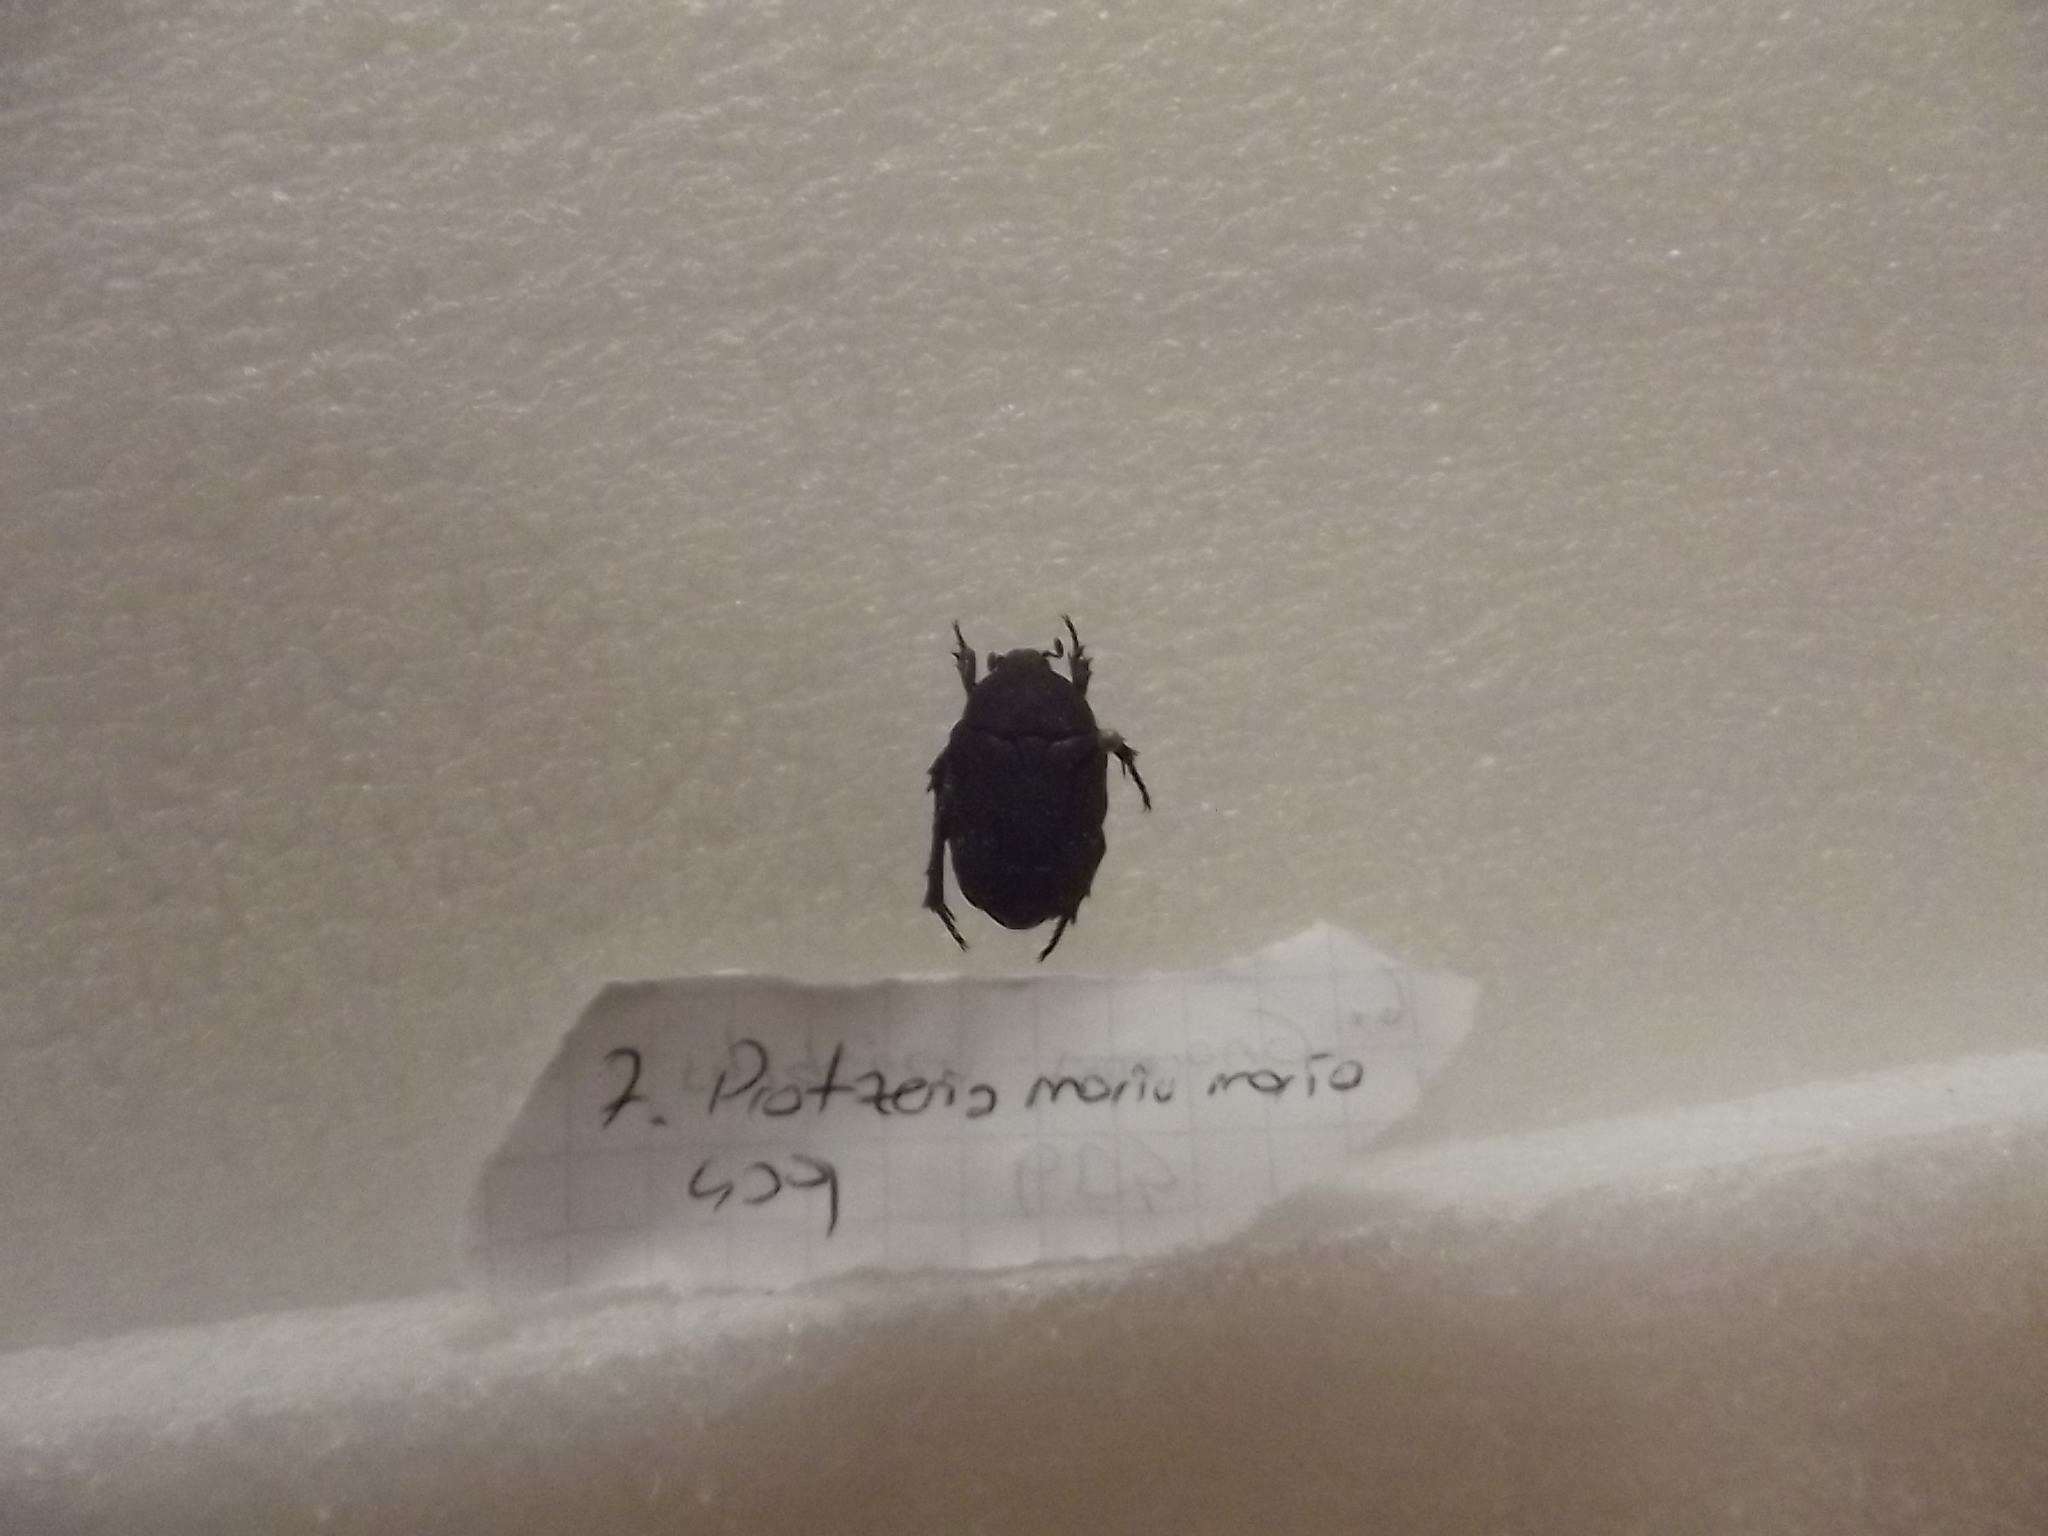Protaetia_morio_morio: (895, 600, 1174, 970)
